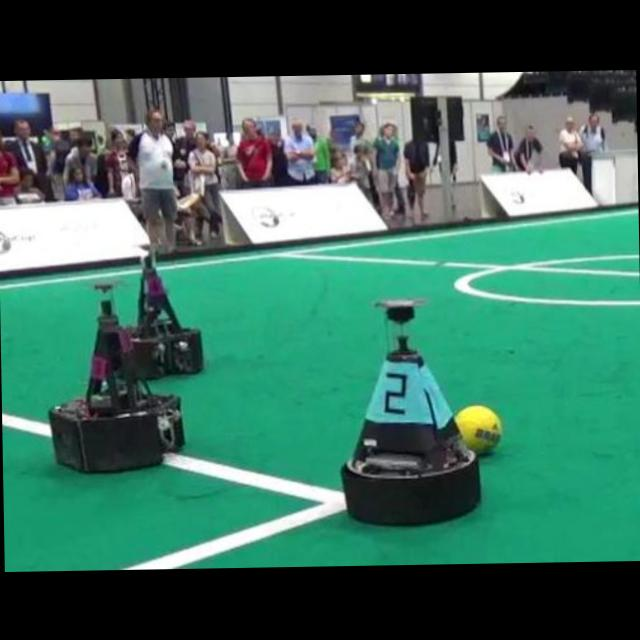ball: (454, 404, 501, 451)
robot: (341, 298, 480, 524), (49, 283, 183, 471), (130, 256, 203, 378)
